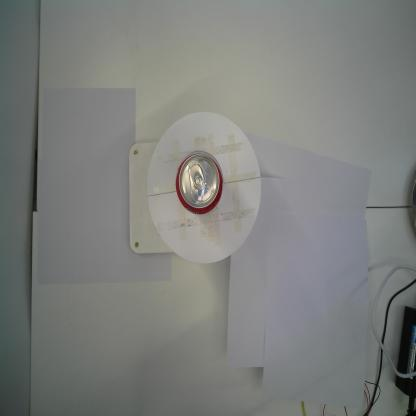Alcohol: (175, 150, 224, 215)
